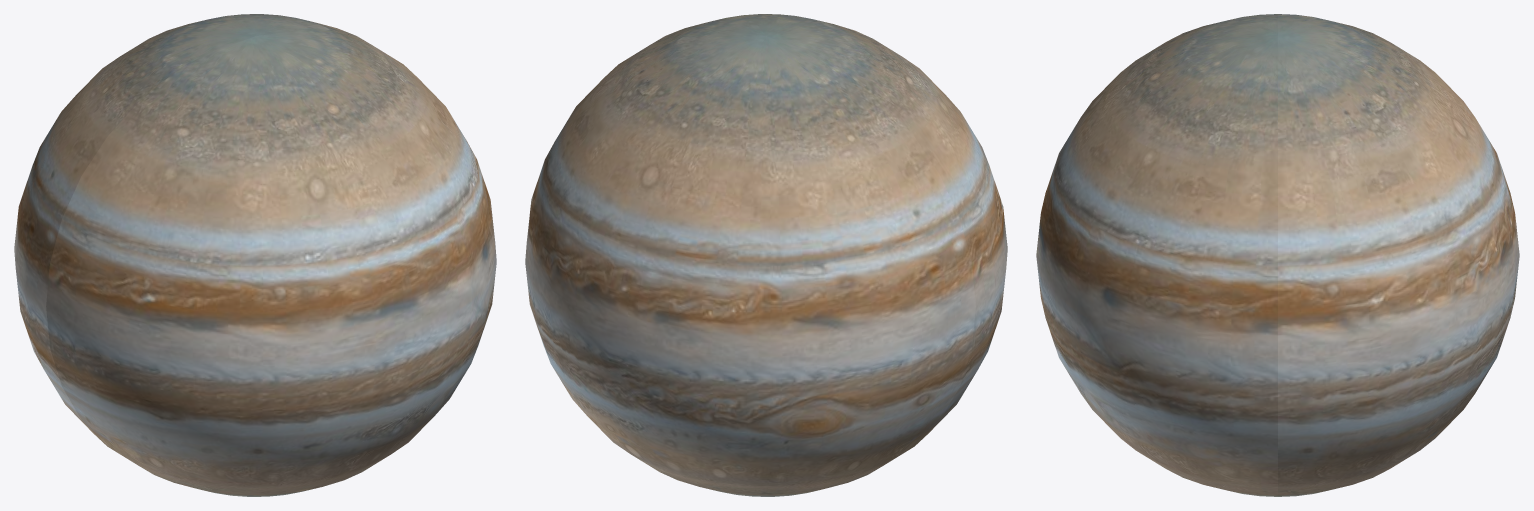
The model's file is Jupiter.glb.
3 renders of one model, left to right at view 1: azimuth 30°, elevation 25°; view 2: azimuth 150°, elevation 25°; view 3: azimuth 270°, elevation 25°, orthographic.
Parts seen in each view (by area): view 1: Sphere.036, Sphere.035; view 2: Sphere.035, Sphere.036; view 3: Sphere.035, Sphere.036.
Part boxes in pixels (x1,y1,x2,y2): Sphere.036: [46, 30, 496, 496]; Sphere.035: [14, 14, 370, 443]; Sphere.035: [525, 30, 975, 496]; Sphere.036: [651, 14, 1007, 443]; Sphere.035: [1278, 14, 1519, 496]; Sphere.036: [1036, 14, 1277, 496].
Size of the model in its own units: 2 by 2 by 2.
7 materials, 7 textured.
